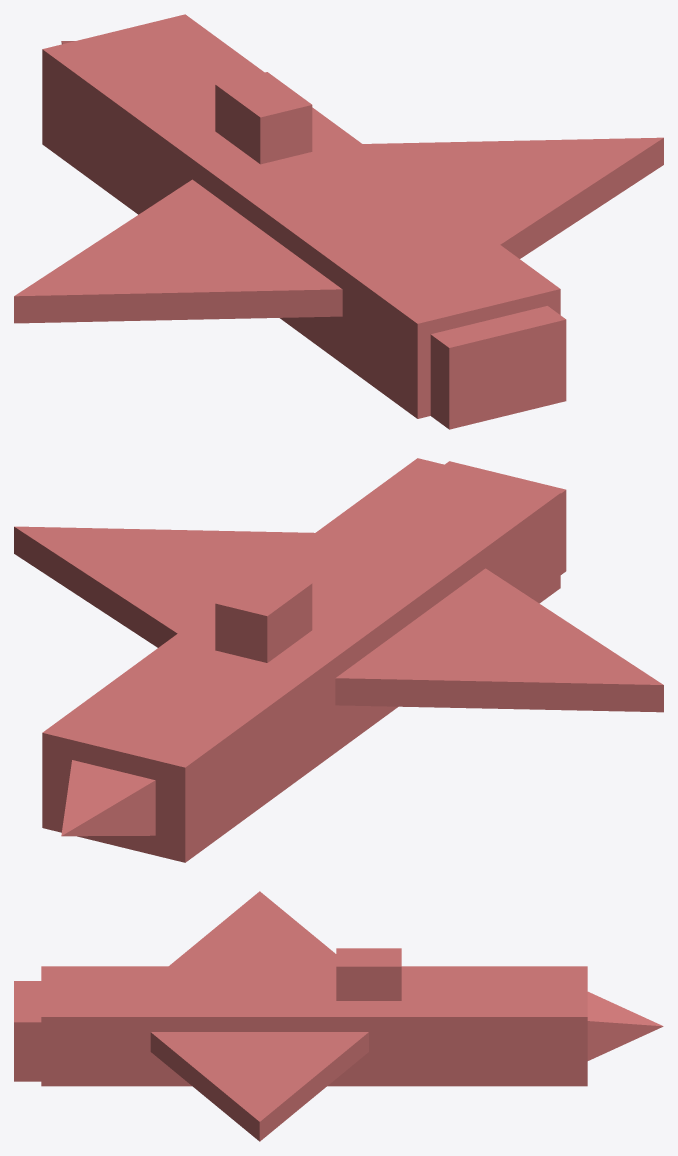
File: pirate_ship.glb
3 views of the same model, one above another, from view 1: azimuth 30°, elevation 25°; view 2: azimuth 150°, elevation 25°; view 3: azimuth 270°, elevation 25° (orthographic). The views are drawn at different scales.
Bounding box in the file's own units: 5 × 1.05 × 5.95.
